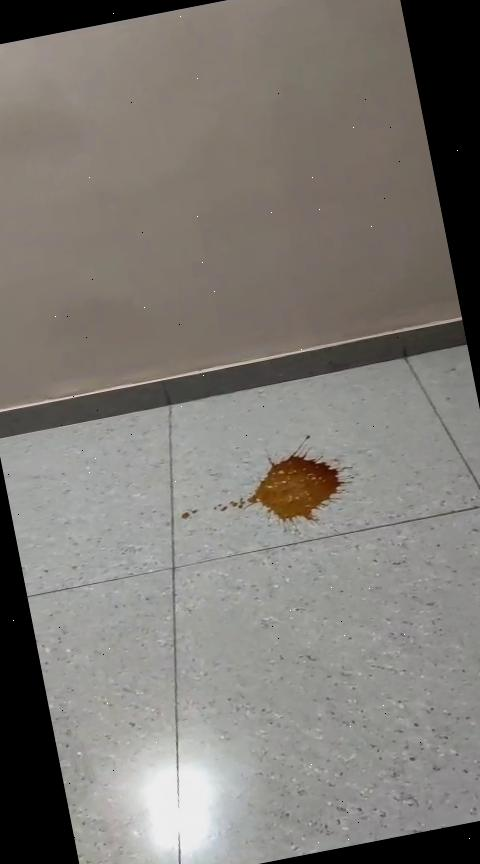dirty_floor: (202, 426, 372, 550)
